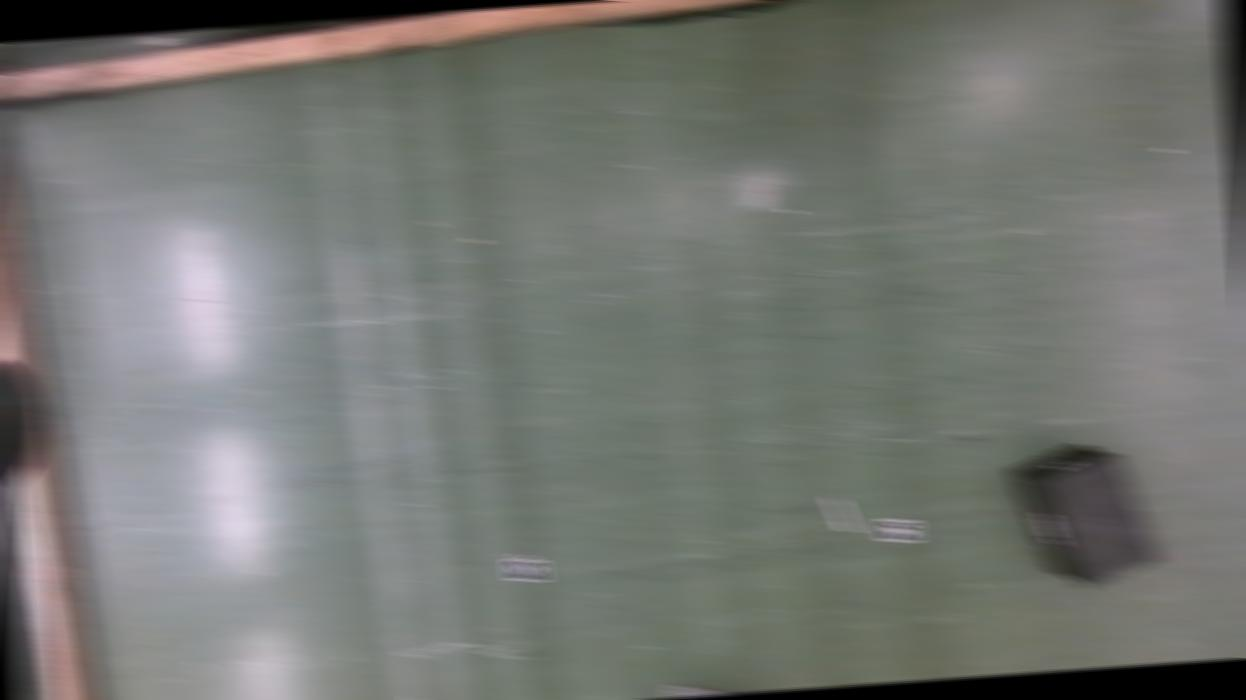probes: (827, 494, 854, 531), (393, 695, 421, 700)
rako: (1008, 436, 1162, 590), (660, 679, 753, 698)
